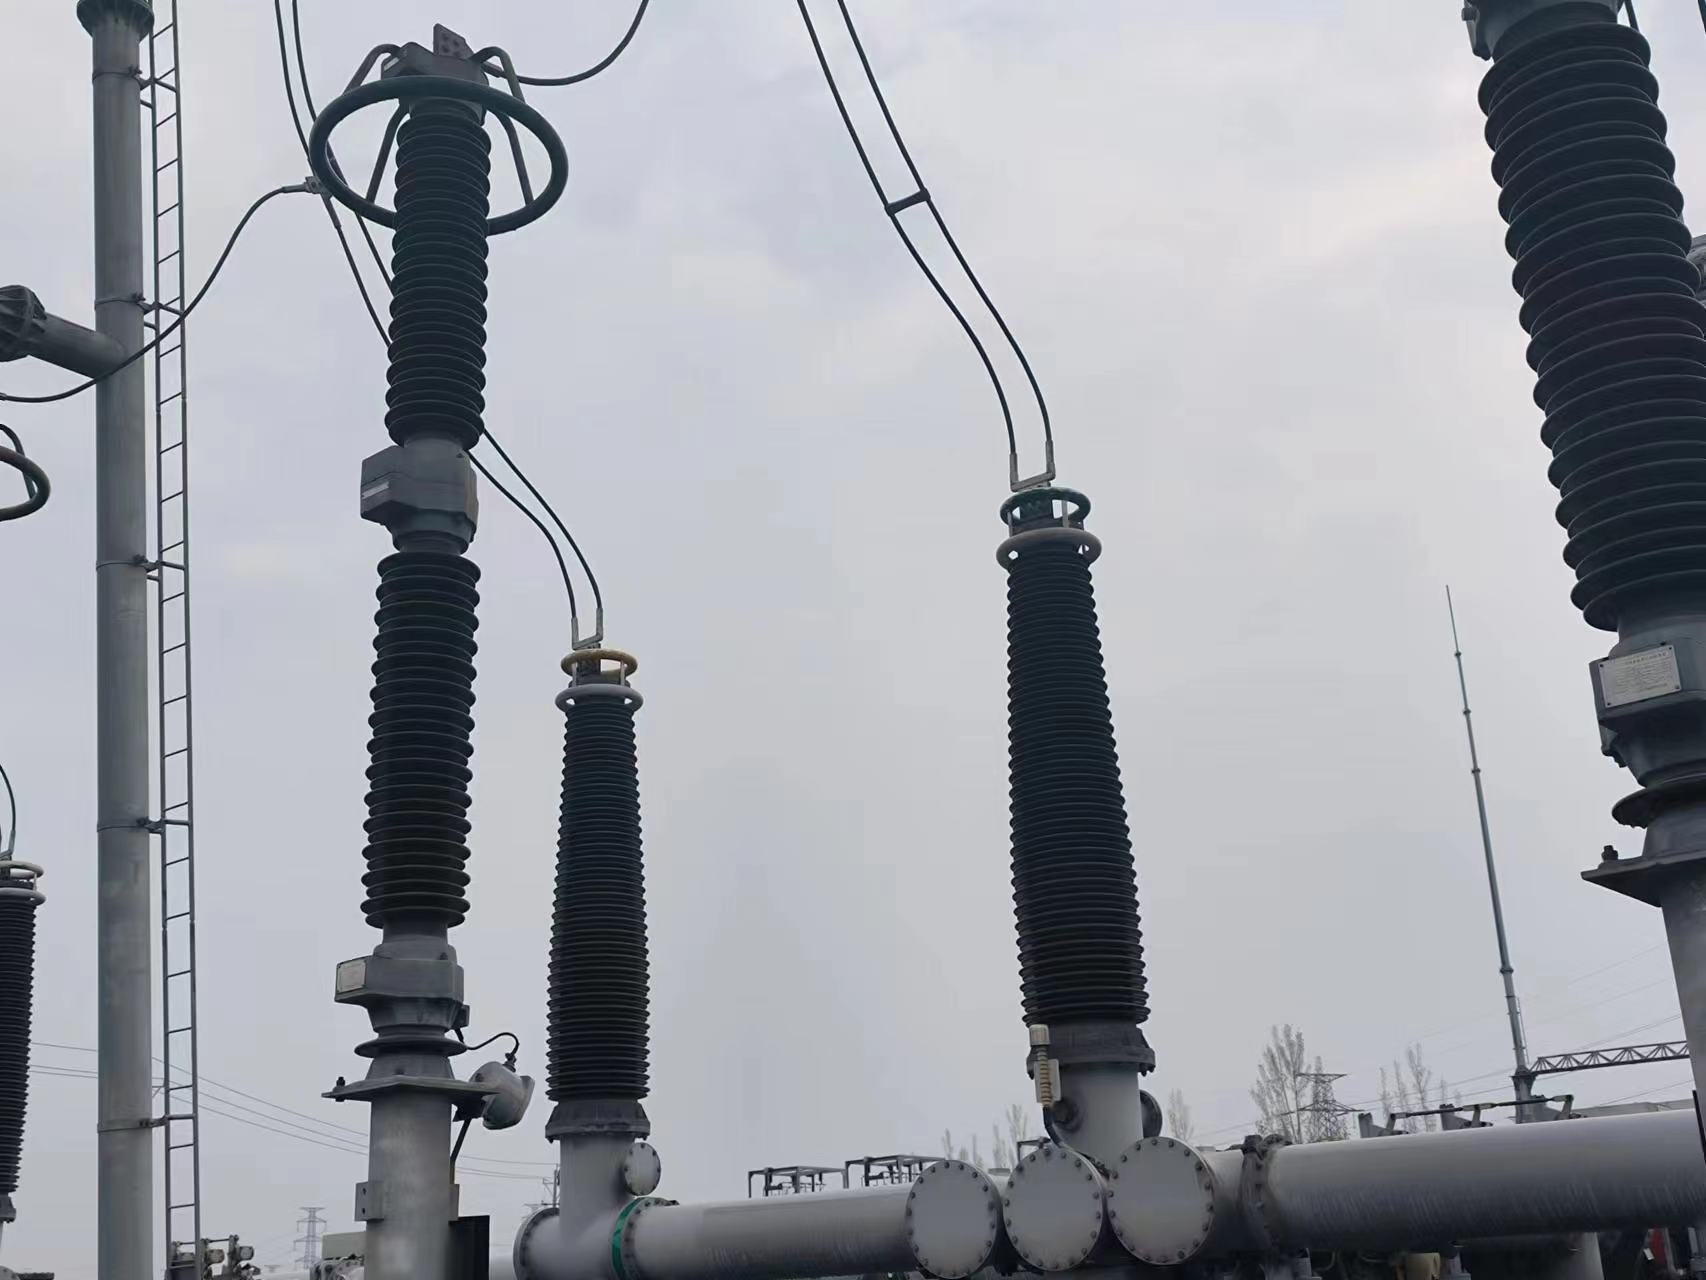Arrester: (305, 22, 571, 930)
Voltage transformer: (998, 485, 1151, 1021), (543, 645, 659, 1103)
